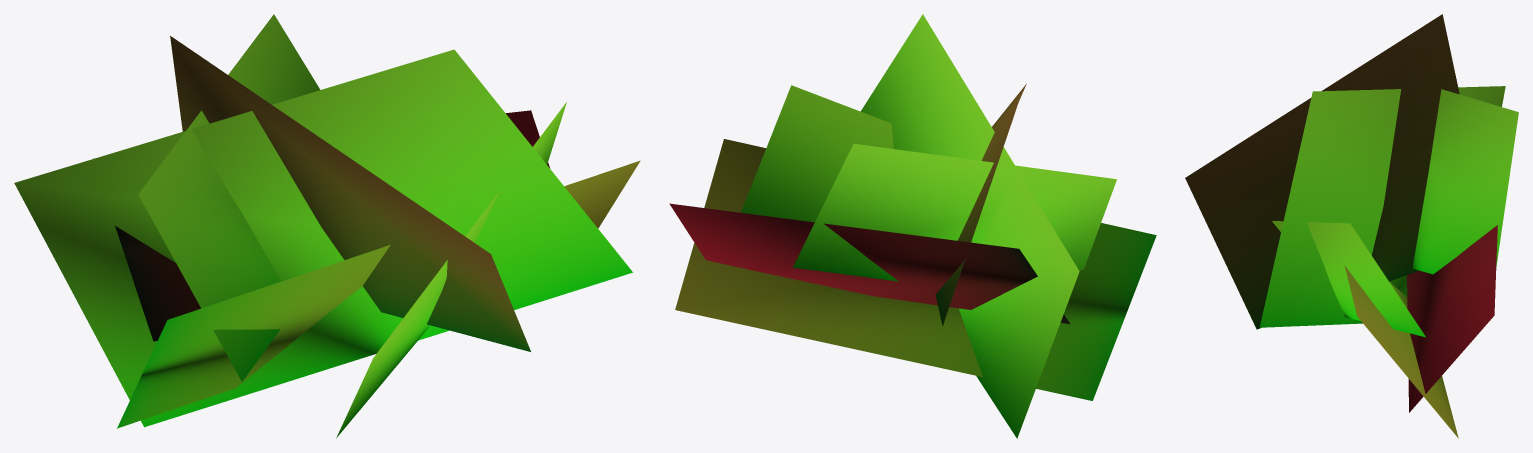
File: bush2_LOD2.fbx
3 renders of one model, left to right at view 1: azimuth 30°, elevation 25°; view 2: azimuth 150°, elevation 25°; view 3: azimuth 270°, elevation 25°, orthographic. The views are drawn at different scales.
Visible parts, largest first — view 1: bush2_LOD2; view 2: bush2_LOD2; view 3: bush2_LOD2.
Boxes of the visible parts, <box> form: bush2_LOD2: <box>14,14,640,438</box>; bush2_LOD2: <box>669,14,1156,438</box>; bush2_LOD2: <box>1185,14,1518,438</box>.
Size of the model in its own units: 366 by 263 by 257.
